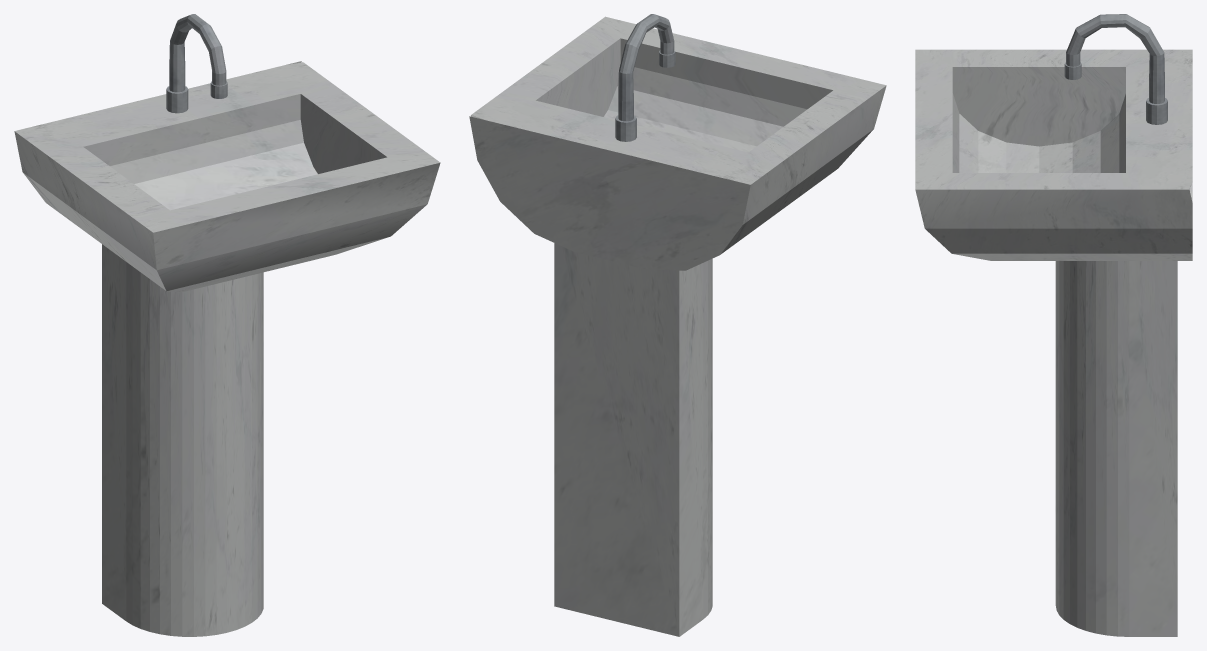
The model's file is Sink.fbx.
The picture shows the model from 3 angles, left to right: view 1: azimuth 30°, elevation 25°; view 2: azimuth 150°, elevation 25°; view 3: azimuth 270°, elevation 25°; orthographic projection. The views are drawn at different scales.
Parts seen in each view (by area): view 1: Sink; view 2: Sink; view 3: Sink.
Boxes of the visible parts, x1,y1,x2,y2 form: Sink: (14,14,440,636); Sink: (469,14,886,636); Sink: (915,14,1192,636).
Size of the model in its own units: 70.17 by 138 by 58.74.
1 material, 1 textured.
